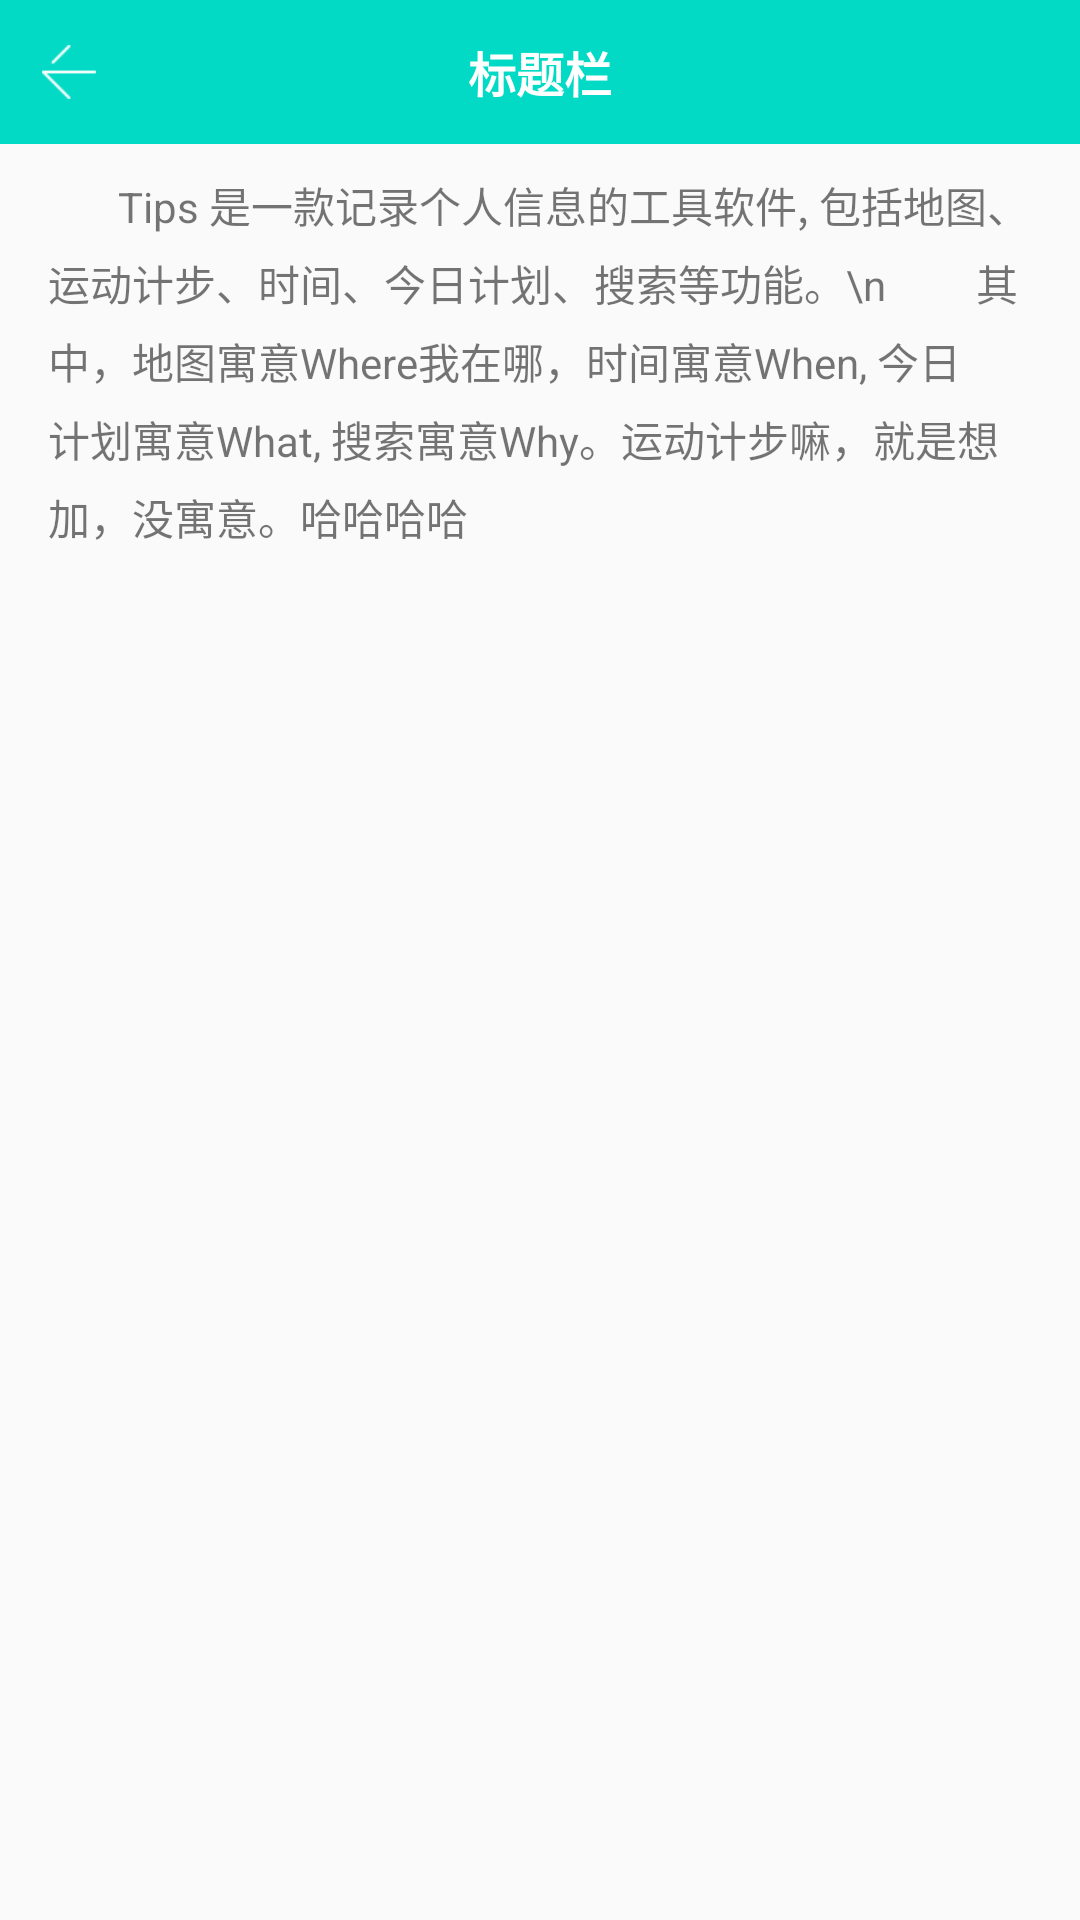

Where to tap for icons on this 1080x1920 app screen, as [x,y]:
base back: [69,72]
